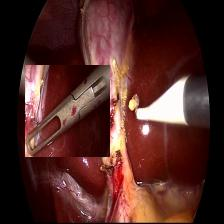Grasper: (25, 65, 110, 157)
Hook: (128, 73, 190, 137)
